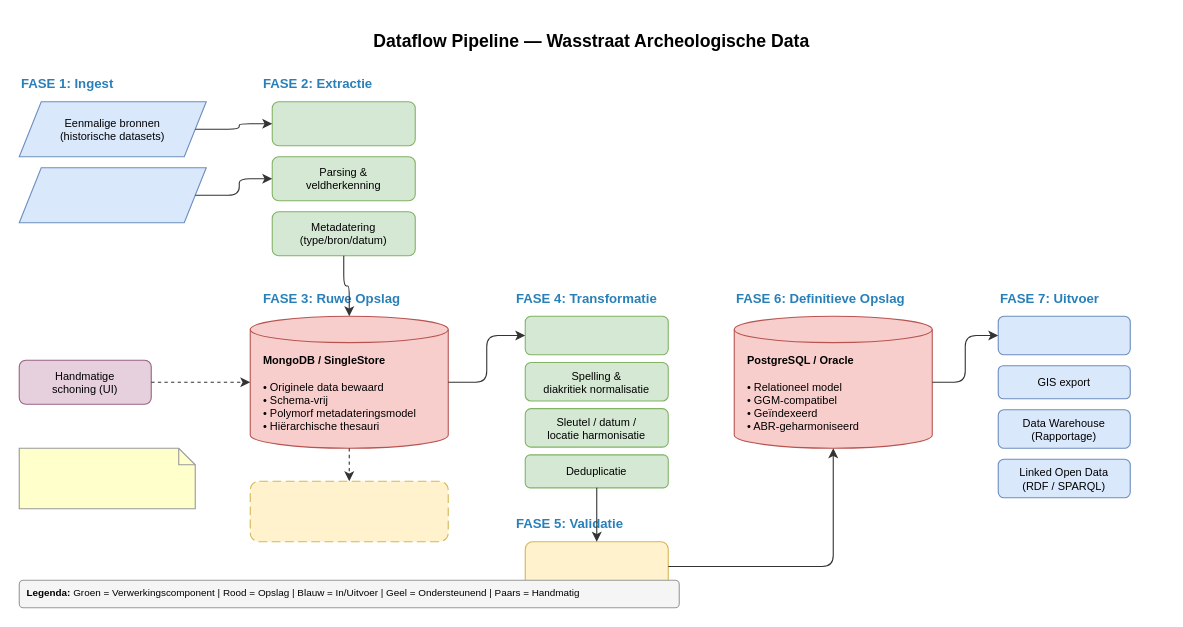
The diagram is 1183 pixels wide and 627 high, and some of its shapes have lost their labels. The shapes that lost their labels are listed below. From the top down, each one's centre as x and y in pixels, then its label:
point (343, 123): Format detectie & encoding
point (112, 195): Periodieke bronnen (nieuwe veldwerkdata)
point (596, 335): ABR thesaurus harmonisatie
point (1063, 335): Website (Vue / Vuetify)
point (106, 478): Originele data wordt altijd bewaard. Alle transformaties zijn traceerbaar.
point (348, 511): Crossviews Engine Record matching | Relatie-identificatie | ML-detectie
point (596, 566): Data logica validatie + Cache mechanisme
